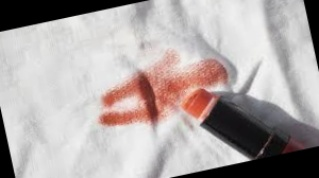lipstick: (86, 48, 238, 134)
